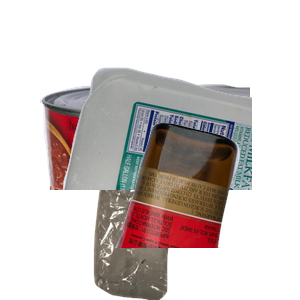glass: (113, 120, 300, 300)
metal: (37, 81, 277, 261)
plastic: (60, 65, 300, 245)
trash: (70, 120, 256, 300)
